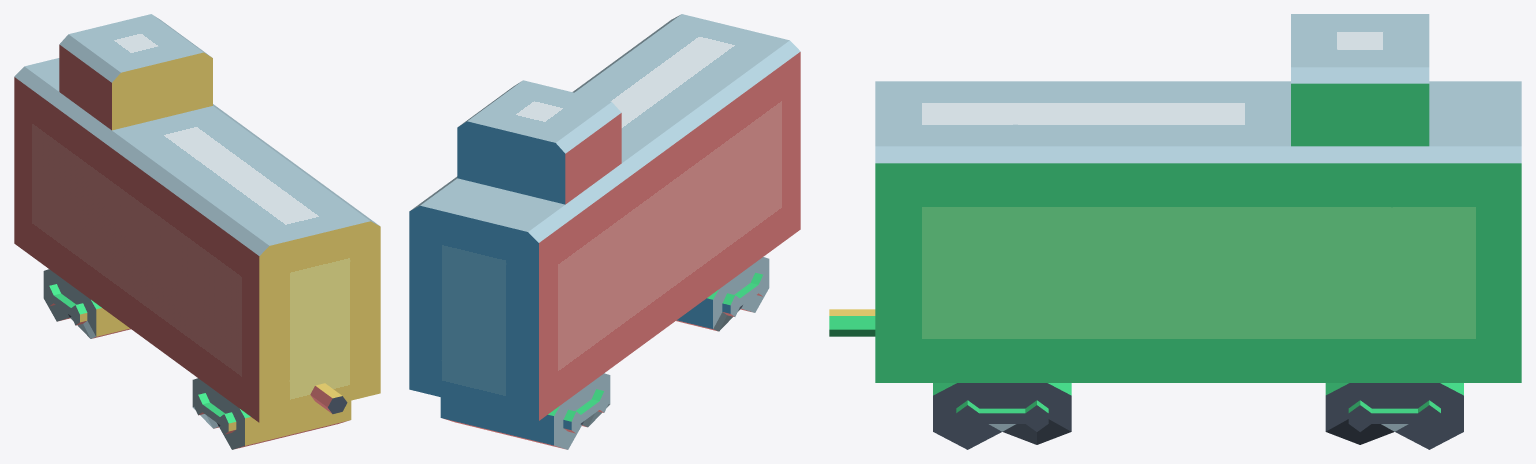
The model's file is caboose.glb.
3 renders of one model, left to right at view 1: azimuth 30°, elevation 25°; view 2: azimuth 150°, elevation 25°; view 3: azimuth 270°, elevation 25°, orthographic. The views are drawn at different scales.
Parts seen in each view (by area): view 1: cuboid, wheel2, wheel1, joint; view 2: cuboid, wheel1, wheel2; view 3: cuboid, wheel1, wheel2, joint.
Part boxes in pixels (x1,y1,x2,y2): cuboid: (14, 14, 380, 422); wheel2: (192, 378, 351, 449); wheel1: (43, 269, 130, 338); joint: (310, 383, 347, 414); cuboid: (409, 14, 800, 420); wheel1: (440, 373, 610, 449); wheel2: (676, 257, 769, 331); cuboid: (875, 14, 1521, 382); wheel1: (1325, 383, 1463, 449); wheel2: (933, 383, 1071, 449); joint: (829, 309, 875, 336).
Size of the model in its own units: 0.25 by 0.5604 by 0.9375.
Materials: 1 (1 with a texture image).
